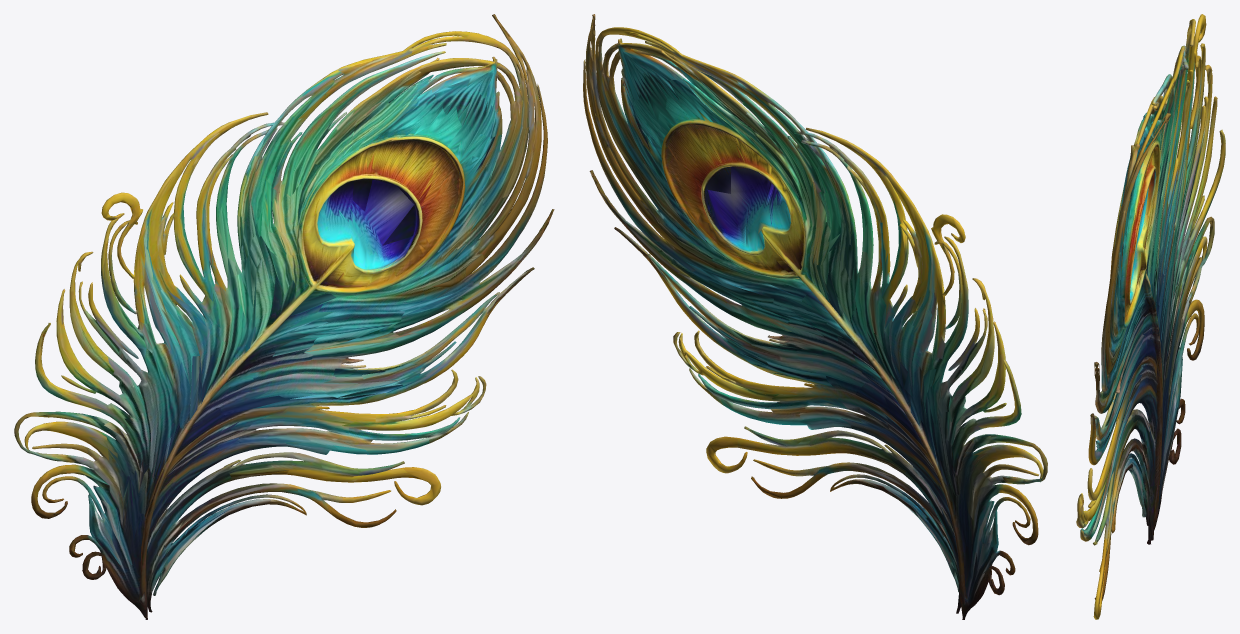
Rendered from feather_v0.glb.
3 views of the same model, side by side, from view 1: azimuth 30°, elevation 25°; view 2: azimuth 150°, elevation 25°; view 3: azimuth 270°, elevation 25° (orthographic). The views are drawn at different scales.
Parts seen in each view (by area): view 1: FEATHER_SRC; view 2: FEATHER_SRC; view 3: FEATHER_SRC.
Boxes of the visible parts, bbox=[...] form: FEATHER_SRC: bbox=[14, 14, 554, 619]; FEATHER_SRC: bbox=[583, 14, 1047, 619]; FEATHER_SRC: bbox=[1076, 14, 1225, 619].
Bounding box in the file's own units: 0.9832 × 0.9746 × 0.2031.
1 material, 1 textured.
